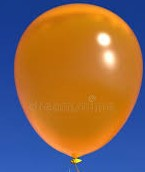Balloon: (15, 3, 143, 158)
